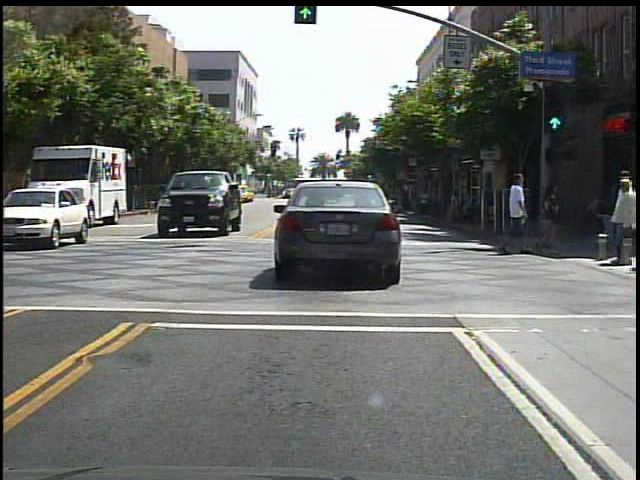person: (500, 159, 537, 257), (608, 167, 637, 269), (415, 186, 434, 219), (546, 174, 547, 254), (601, 182, 602, 250)
